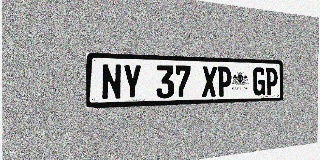3: (156, 65, 174, 99)
7: (174, 65, 191, 98)
G: (253, 67, 265, 96)
N: (101, 64, 122, 100)
P: (217, 66, 231, 97), (265, 68, 277, 95)
X: (202, 66, 217, 97)
Y: (122, 64, 142, 100)
